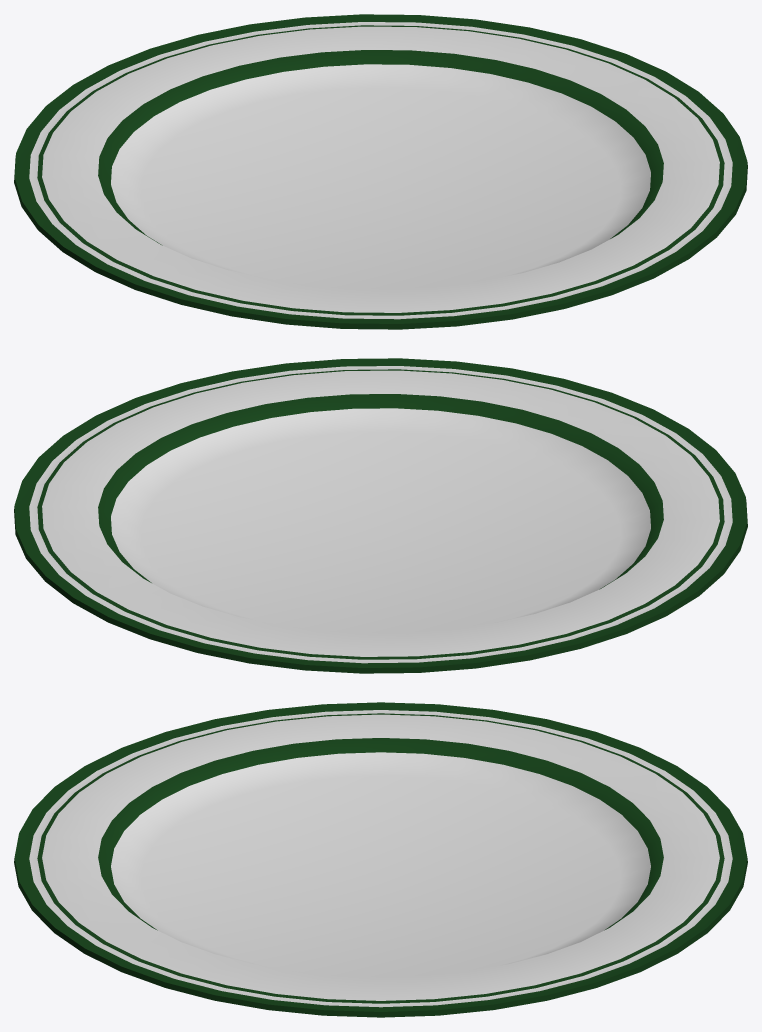
Rendered from AP_plate01_TL.fbx.
3 renders of one model, top to bottom at view 1: azimuth 30°, elevation 25°; view 2: azimuth 150°, elevation 25°; view 3: azimuth 270°, elevation 25°, orthographic.
Parts seen in each view (by area): view 1: pCylinder1; view 2: pCylinder1; view 3: pCylinder1.
Boxes of the visible parts, <box> form: pCylinder1: <box>14,14,747,329</box>; pCylinder1: <box>14,358,747,673</box>; pCylinder1: <box>14,702,747,1017</box>.
Size of the model in its own units: 0.5746 by 0.0314 by 0.5746.
